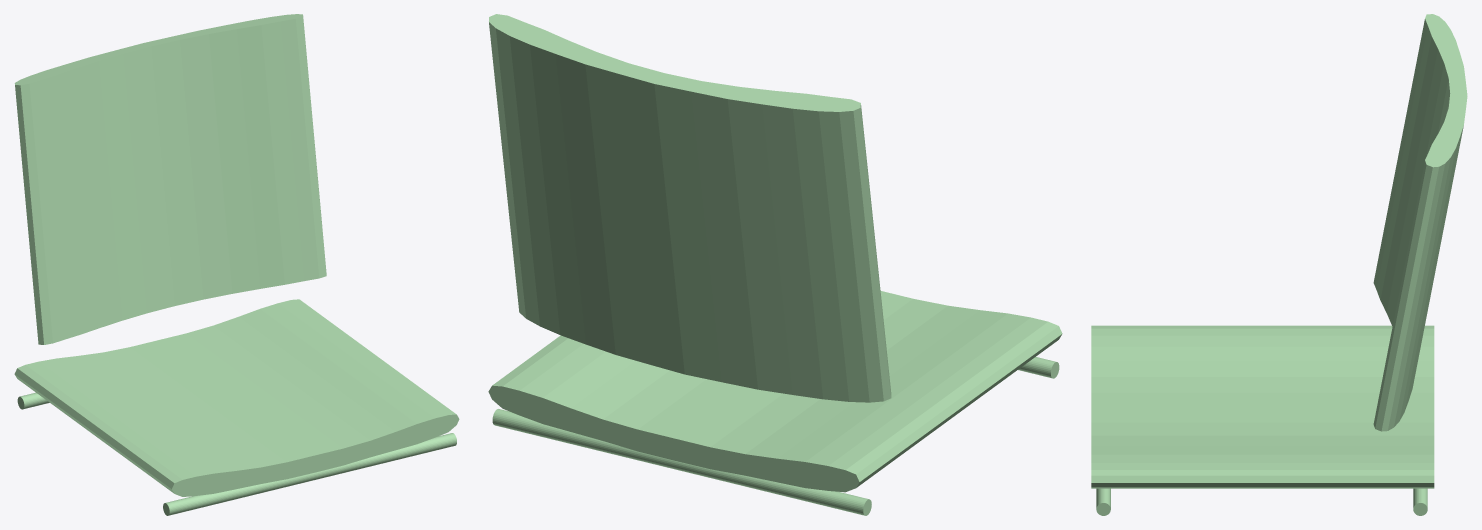
The model's file is Infirmary Waiting Chair.fbx.
3 views of the same model, side by side, from view 1: azimuth 30°, elevation 25°; view 2: azimuth 150°, elevation 25°; view 3: azimuth 270°, elevation 25° (orthographic). The views are drawn at different scales.
Parts seen in each view (by area): view 1: Cylinder; view 2: Cylinder; view 3: Cylinder.
Boxes of the visible parts, left/top/right/bottom form: Cylinder: left=14, top=14, right=459, bottom=515; Cylinder: left=488, top=14, right=1062, bottom=515; Cylinder: left=1091, top=14, right=1467, bottom=515.
Size of the model in its own units: 200 by 213 by 208.
